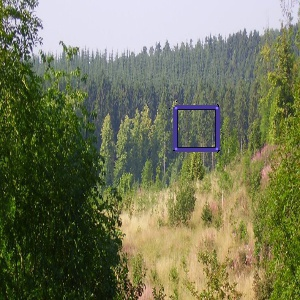square: (171, 103, 222, 153)
